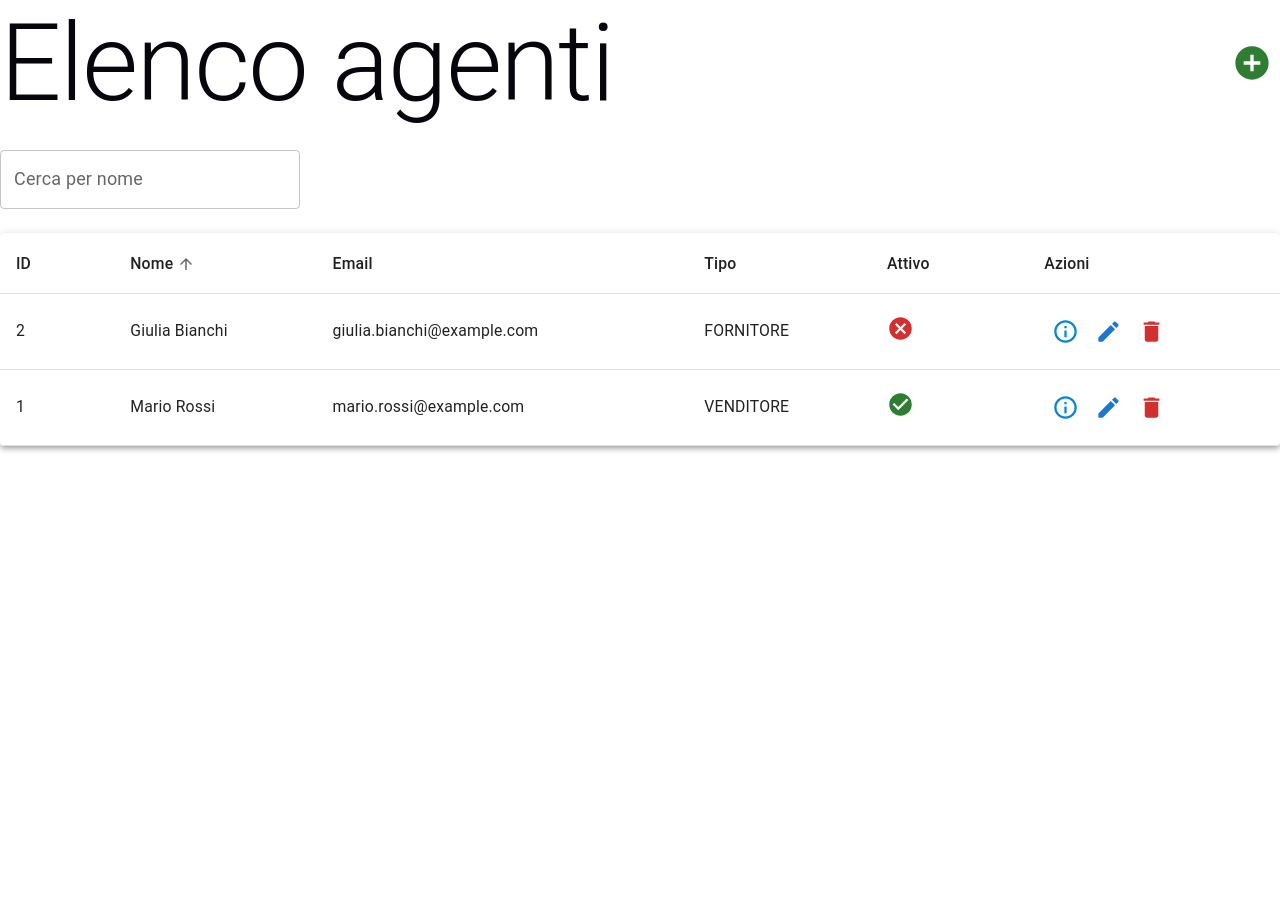
it: Agentes › oferece arquivamento quando o agente è utilizado em um ordine di vendita
Click the button titled "Elimina" in the row of "Mario Rossi": (1152, 408) [1130,386,1173,429]
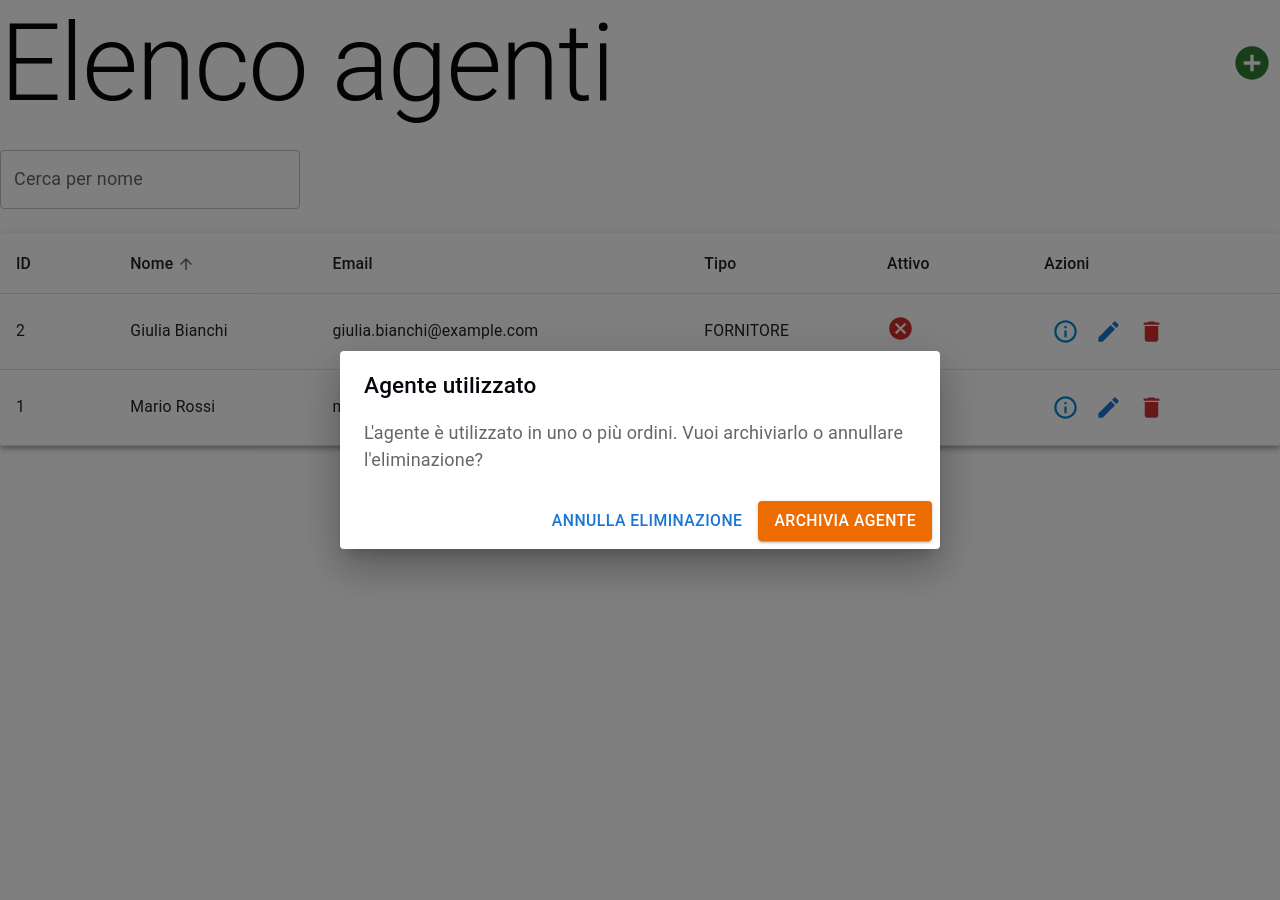
Now the text "utilizzato in uno o più ordini" is shown, box [364,422,903,470]
Click the button "Archivia agente": (845, 521) [758,501,932,541]
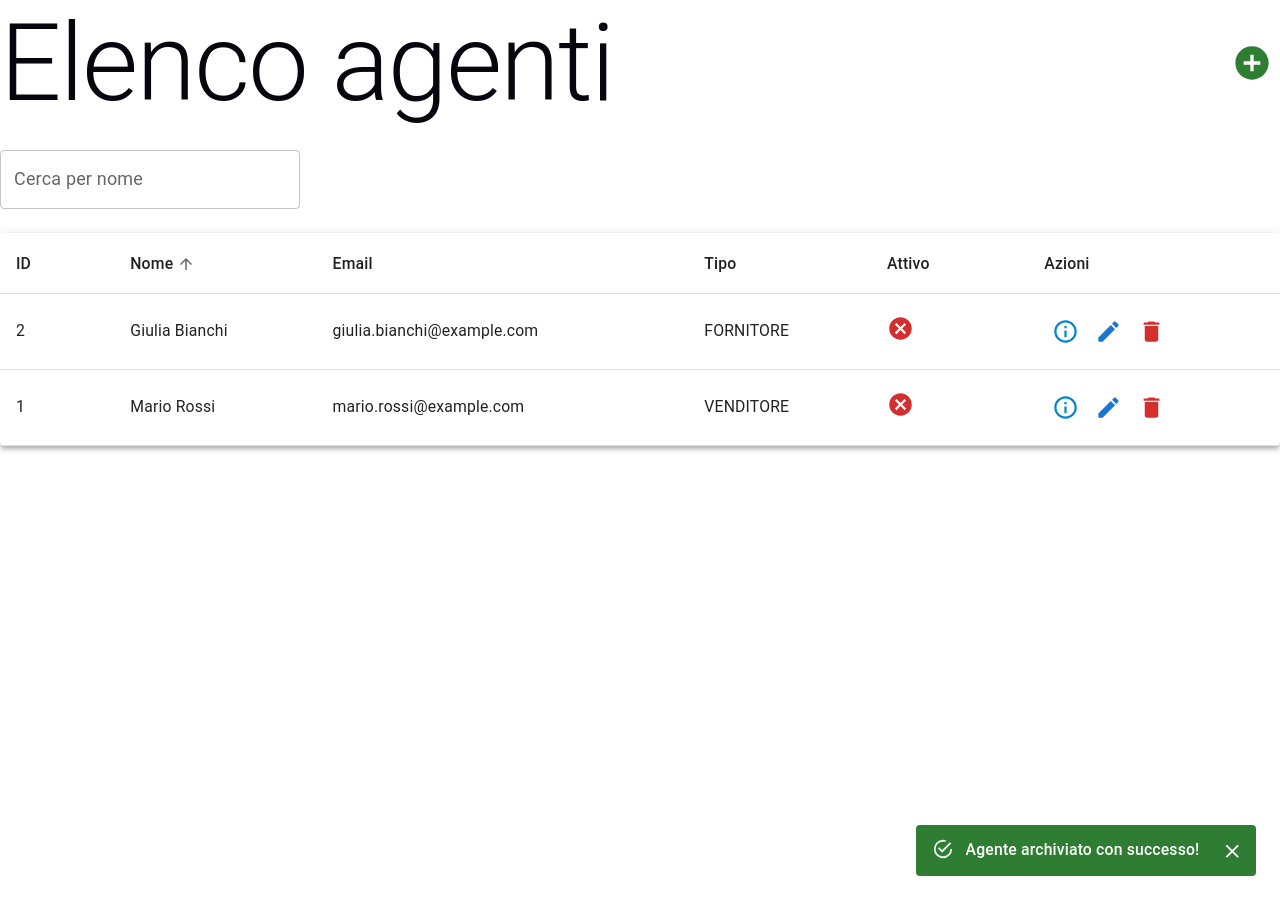
Now the text "Agente archiviato con successo!" is shown, box [966,840,1200,860]
